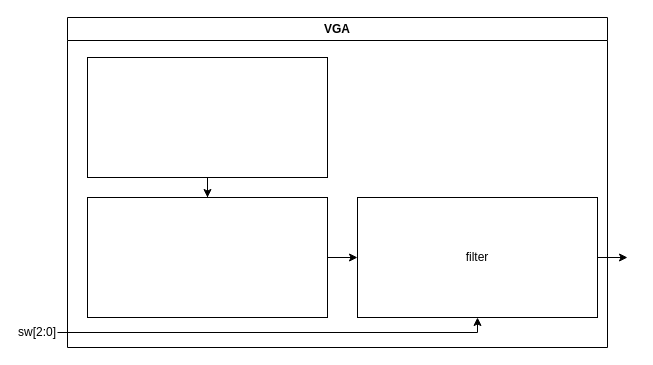
The diagram is 653 pixels wide and 365 high, and some of its shapes have lost their labels. The shapes that lost their labels are listed below. From the top down, each one's centre as x and y in pixels, then its label:
At [207,117]: "VGA Controler".
At [207,257]: "Memory".
